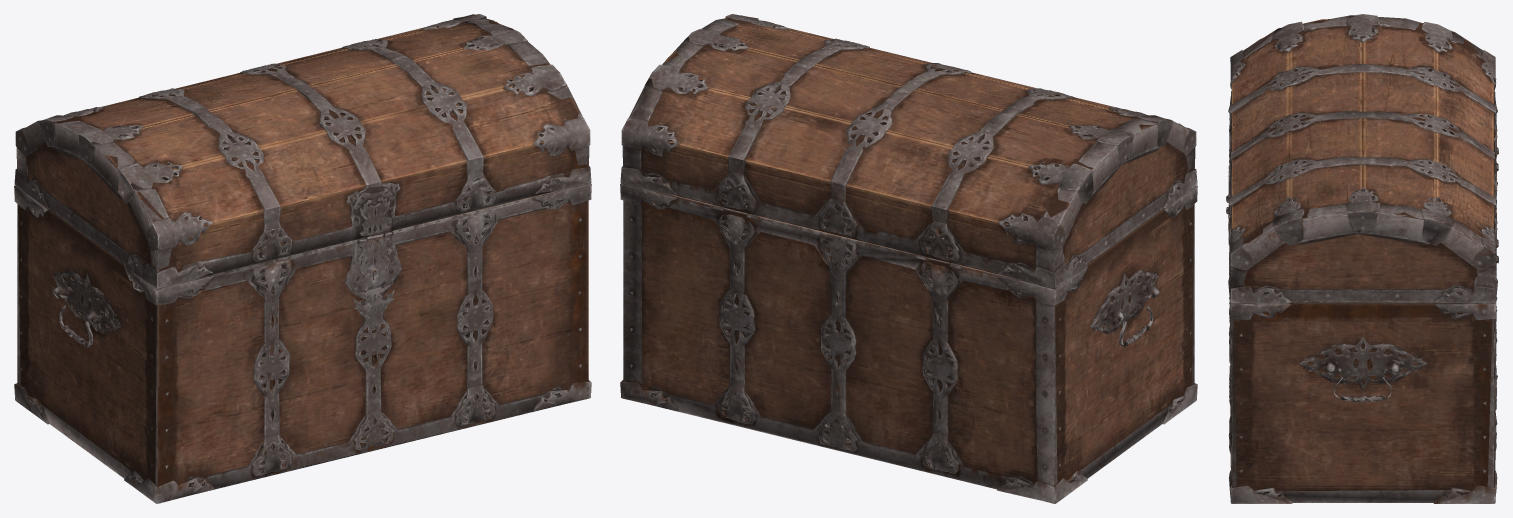
Rendered from ph_treasure_chest.glb.
3 views of the same model, side by side, from view 1: azimuth 30°, elevation 25°; view 2: azimuth 150°, elevation 25°; view 3: azimuth 270°, elevation 25° (orthographic). The views are drawn at different scales.
Parts seen in each view (by area): view 1: treasure_chest_bottom, treasure_chest_lid, treasure_chest_lock; view 2: treasure_chest_bottom, treasure_chest_lid; view 3: treasure_chest_lid, treasure_chest_bottom, treasure_chest_handle_right.
Boxes of the visible parts, x1,y1,x2,y2 form: treasure_chest_bottom: [14, 183, 591, 503]; treasure_chest_lid: [14, 14, 591, 288]; treasure_chest_lock: [348, 233, 400, 322]; treasure_chest_bottom: [620, 183, 1197, 503]; treasure_chest_lid: [620, 14, 1197, 288]; treasure_chest_lid: [1226, 14, 1498, 303]; treasure_chest_bottom: [1228, 123, 1498, 503]; treasure_chest_handle_right: [1320, 366, 1405, 401].
Size of what is drawn, in the model's own units: 0.9605 by 0.6192 by 0.5224.
1 material, 1 textured.
